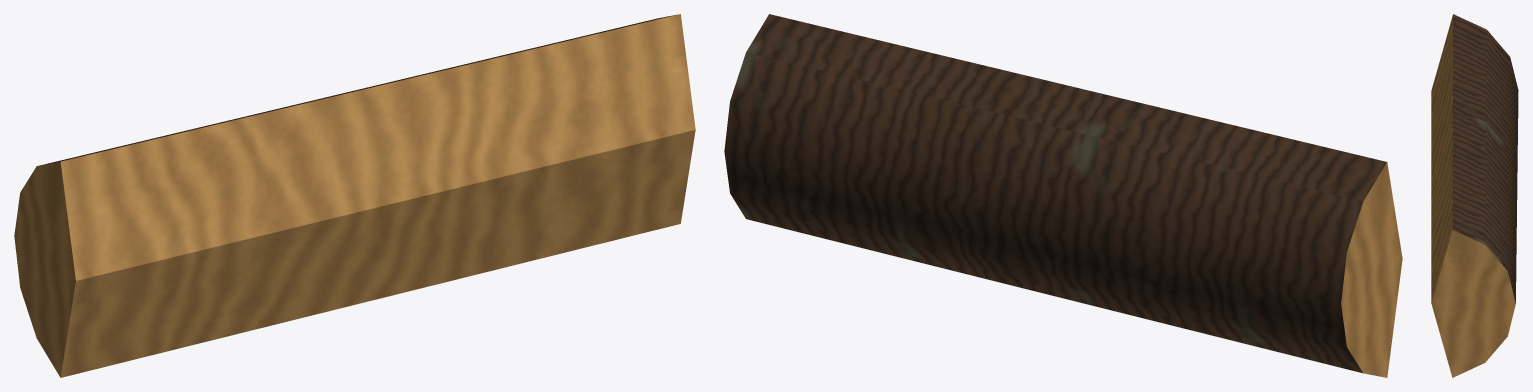
The model's file is log_split.glb.
The picture shows the model from 3 angles, left to right: view 1: azimuth 30°, elevation 25°; view 2: azimuth 150°, elevation 25°; view 3: azimuth 270°, elevation 25°; orthographic projection. The views are drawn at different scales.
Parts seen in each view (by area): view 1: SplitLogInner, SplitLogBark; view 2: SplitLogBark, SplitLogInner; view 3: SplitLogBark, SplitLogInner.
Part boxes in pixels (left/top/right/bottom): SplitLogInner: left=14, top=14, right=695, bottom=377; SplitLogBark: left=41, top=14, right=676, bottom=165; SplitLogBark: left=724, top=14, right=1386, bottom=373; SplitLogInner: left=1341, top=162, right=1402, bottom=377; SplitLogBark: left=1452, top=14, right=1518, bottom=303; SplitLogInner: left=1431, top=15, right=1515, bottom=377.
Bounding box in the file's own units: 0.36 × 0.1201 × 0.062.
2 materials, 2 textured.
